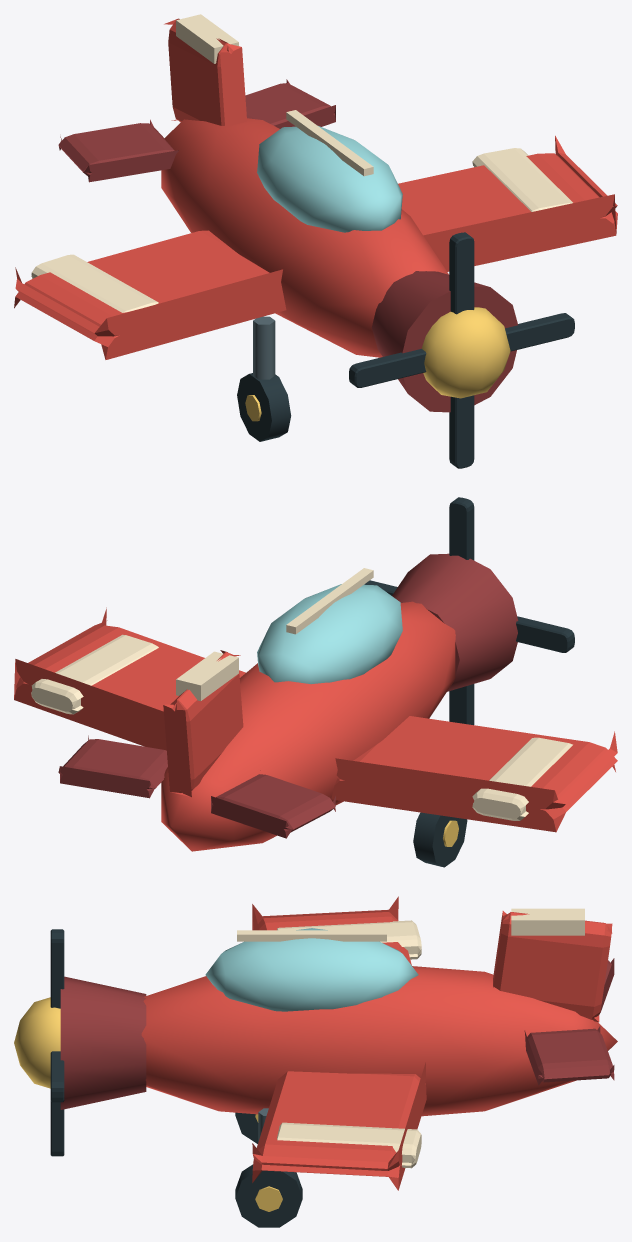
The model's file is aircraft.glb.
3 views of the same model, one above another, from view 1: azimuth 30°, elevation 25°; view 2: azimuth 150°, elevation 25°; view 3: azimuth 270°, elevation 25° (orthographic). The views are drawn at different scales.
Visible parts, largest first — view 1: airframe-team, airframe-dark, airframe-glass, airframe-cream, propeller-rubber, airframe-gold, airframe-rubber, airframe-metal; view 2: airframe-team, airframe-dark, airframe-cream, airframe-glass, propeller-rubber, airframe-rubber; view 3: airframe-team, airframe-dark, airframe-glass, airframe-cream, airframe-gold, airframe-rubber, propeller-rubber.
Boxes of the visible parts, x1,y1,x2,y2 form: airframe-team: (14, 18, 617, 359); airframe-dark: (58, 79, 517, 412); airframe-glass: (257, 126, 402, 232); airframe-cream: (31, 14, 572, 312); propeller-rubber: (349, 232, 574, 468); airframe-gold: (245, 307, 510, 421); airframe-rubber: (237, 373, 291, 441); airframe-metal: (253, 316, 275, 379); airframe-team: (14, 601, 617, 851); airframe-dark: (58, 553, 518, 838); airframe-cream: (31, 568, 572, 820); airframe-glass: (257, 584, 402, 684); propeller-rubber: (364, 497, 574, 725); airframe-rubber: (413, 812, 467, 867); airframe-team: (141, 896, 617, 1190); airframe-dark: (60, 958, 614, 1109); airframe-glass: (205, 928, 418, 1011); airframe-cream: (237, 908, 584, 1168); airframe-gold: (14, 997, 282, 1211); airframe-rubber: (235, 1112, 302, 1227); propeller-rubber: (50, 929, 64, 1156).
Bounding box in the file's own units: 2 × 0.9702 × 1.97.
